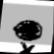not correct: (7, 15, 46, 54)
